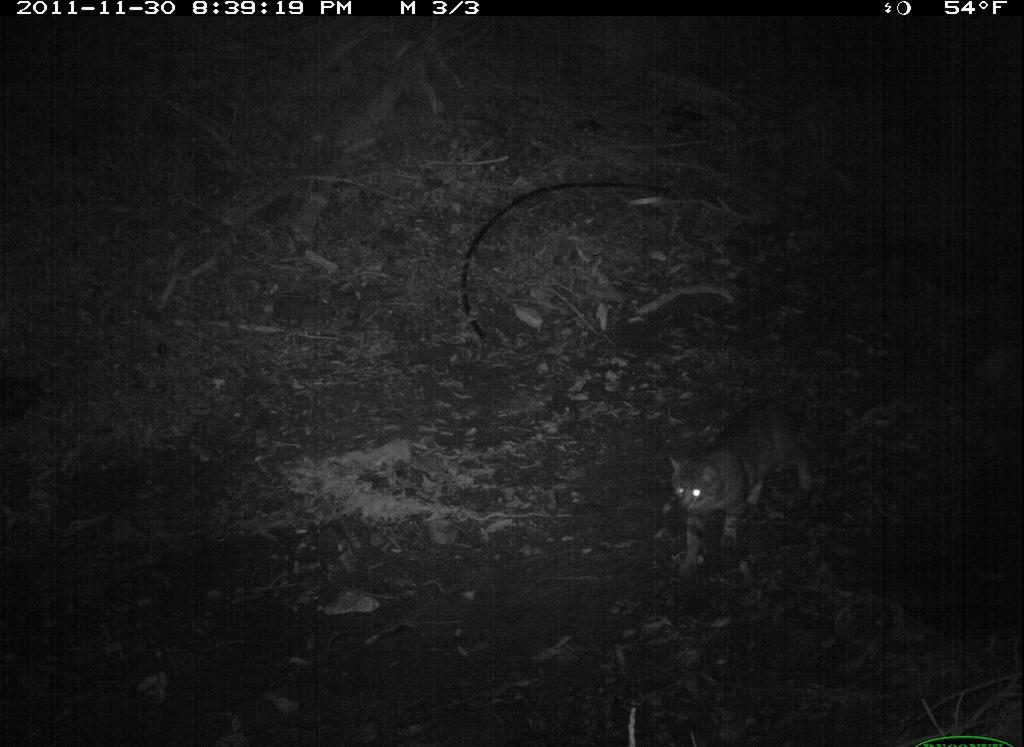cat: (658, 377, 821, 573)
